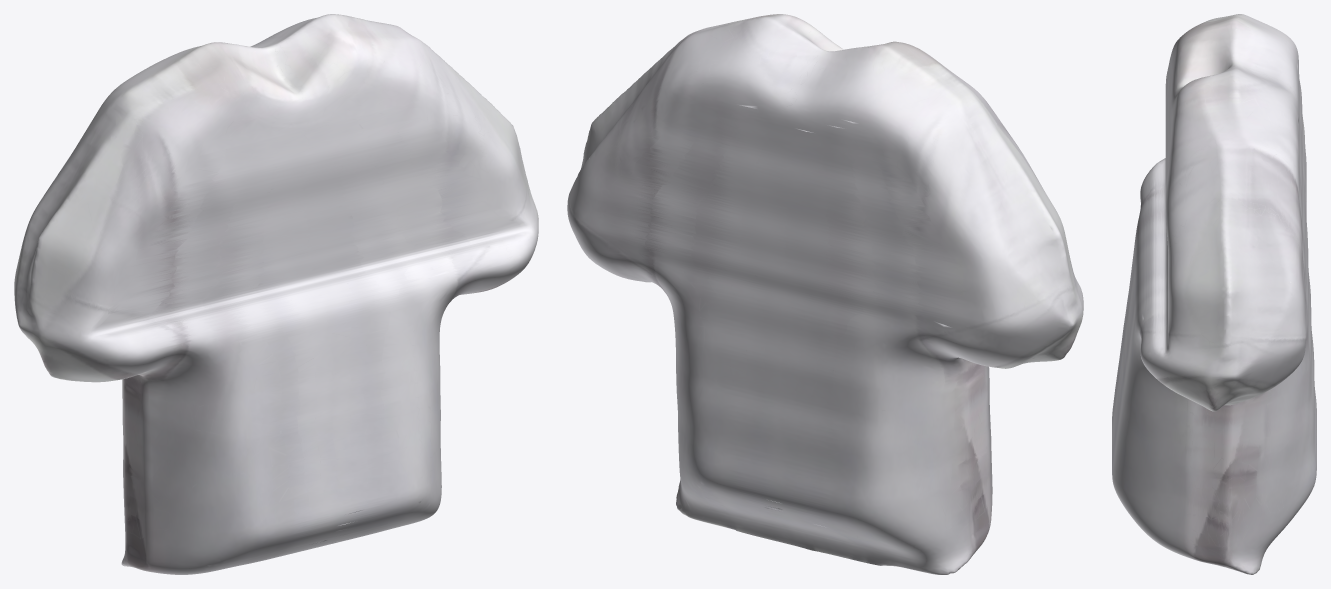
Rendered from NF005-worn-v3.glb.
The picture shows the model from 3 angles, left to right: view 1: azimuth 30°, elevation 25°; view 2: azimuth 150°, elevation 25°; view 3: azimuth 270°, elevation 25°; orthographic projection. The views are drawn at different scales.
Visible parts, largest first — view 1: NF005_worn_photo_fitted; view 2: NF005_worn_photo_fitted; view 3: NF005_worn_photo_fitted.
Boxes of the visible parts, box(x1,y1,x2,y2) form: NF005_worn_photo_fitted: box(14, 14, 538, 574); NF005_worn_photo_fitted: box(567, 14, 1083, 574); NF005_worn_photo_fitted: box(1112, 14, 1316, 574).
Bounding box in the file's own units: 0.6484 × 0.628 × 0.2482.
Materials: 1 (1 with a texture image).
